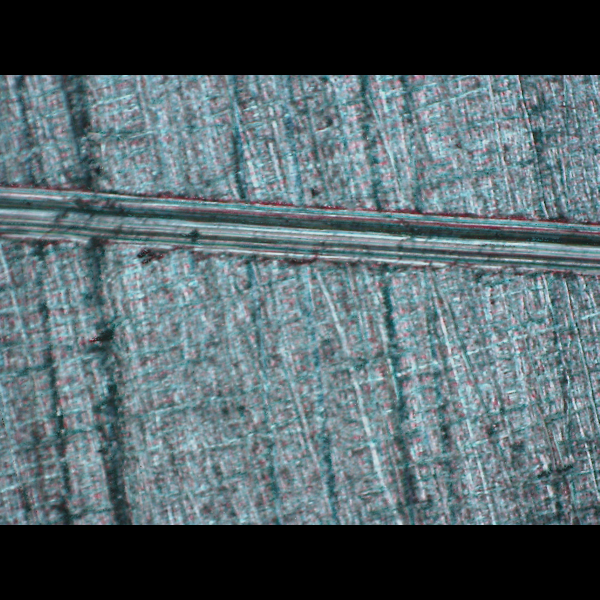d: (1, 175, 600, 284)
